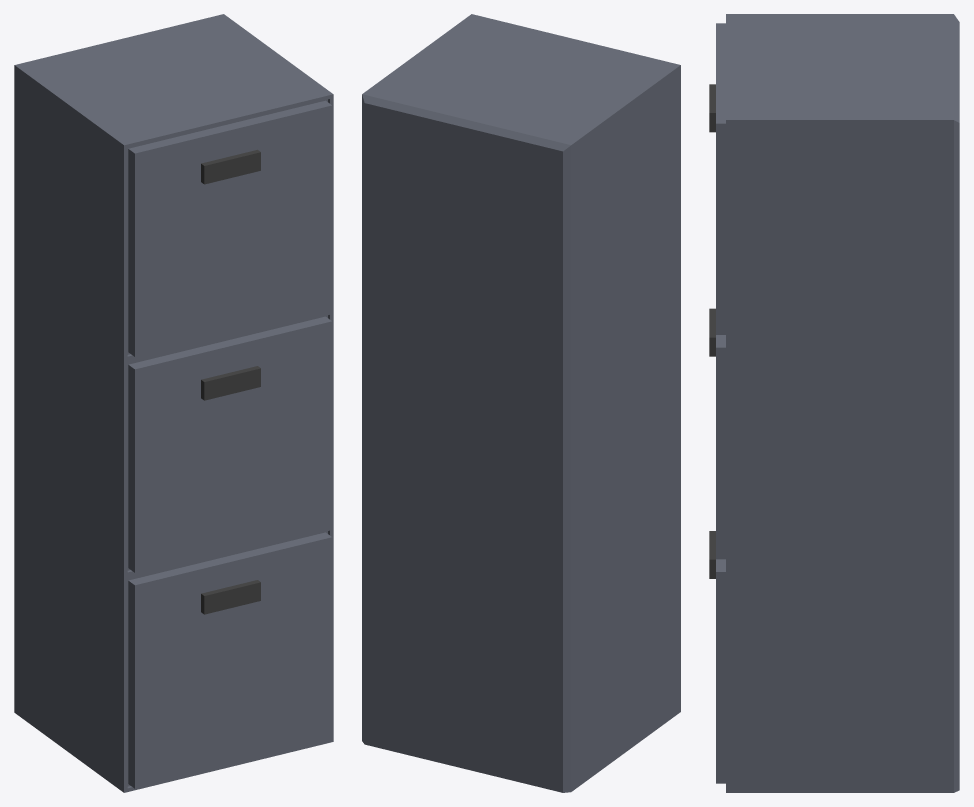
Rendered from Cabinet.fbx.
The picture shows the model from 3 angles, left to right: view 1: azimuth 30°, elevation 25°; view 2: azimuth 150°, elevation 25°; view 3: azimuth 270°, elevation 25°; orthographic projection. The views are drawn at different scales.
Parts seen in each view (by area): view 1: Cabinet; view 2: Cabinet; view 3: Cabinet.
Boxes of the visible parts, x1,y1,x2,y2 form: Cabinet: (14, 14, 333, 792); Cabinet: (362, 14, 680, 792); Cabinet: (709, 14, 959, 792).
Size of the model in its own units: 162 by 480 by 162.
